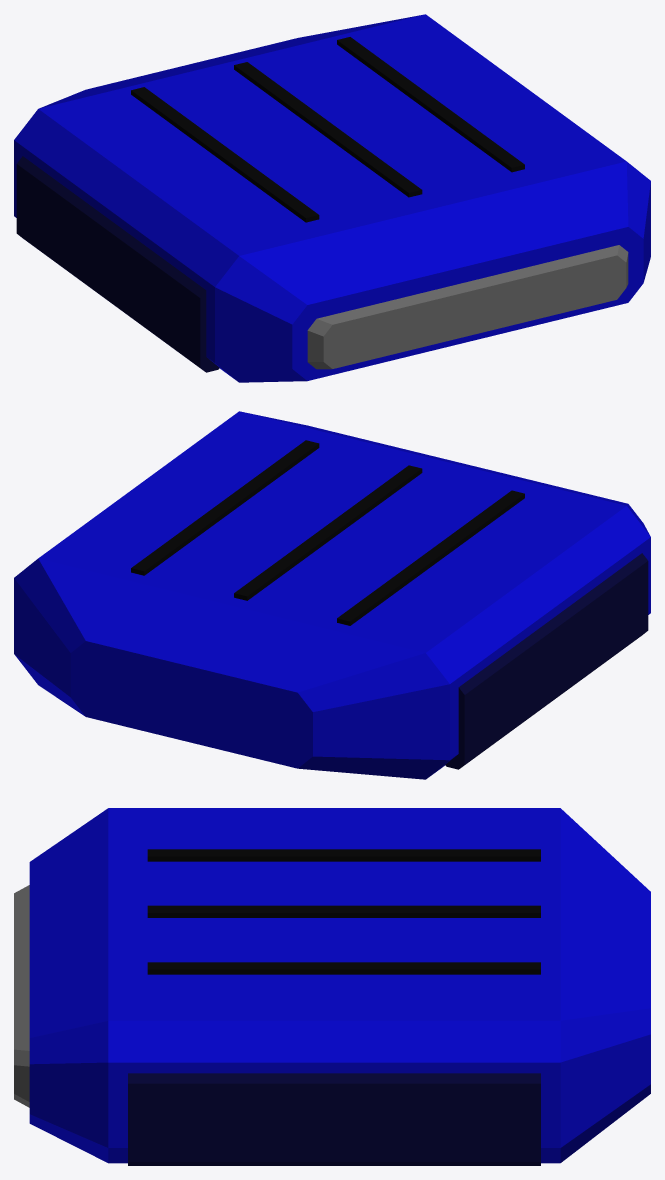
Rendered from Legs_Tread.obj.
3 renders of one model, top to bottom at view 1: azimuth 30°, elevation 25°; view 2: azimuth 150°, elevation 25°; view 3: azimuth 270°, elevation 25°, orthographic. The views are drawn at different scales.
Visible parts, largest first — view 1: hblue, tgray, navy, black; view 2: hblue, navy, black; view 3: hblue, navy, black, tgray.
Boxes of the visible parts, <box> form: hblue: <box>14,14,650,382</box>; tgray: <box>307,245,628,369</box>; navy: <box>16,156,219,372</box>; black: <box>131,37,524,222</box>; hblue: <box>14,411,650,779</box>; navy: <box>445,553,648,769</box>; black: <box>131,440,524,625</box>; hblue: <box>29,808,650,1163</box>; navy: <box>128,1073,540,1165</box>; black: <box>147,849,540,974</box>; tgray: <box>14,885,29,1107</box>.
Bounding box in the file's own units: 1.48 × 0.421 × 1.62.
